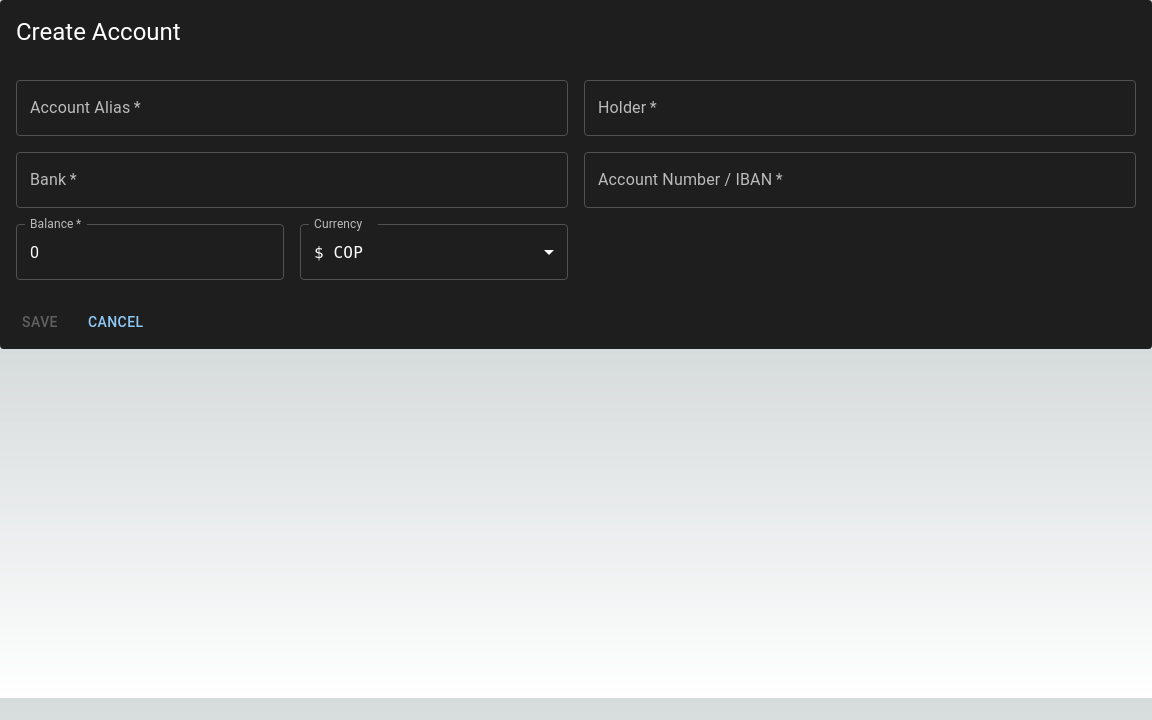
Test case: AccountForm API › disables save button while post request pending
The image size is (1152, 720).
Type "Test bank" into the field labelled "Bank *".
click(292, 180); type("Test bank")  # box [16, 152, 568, 208]
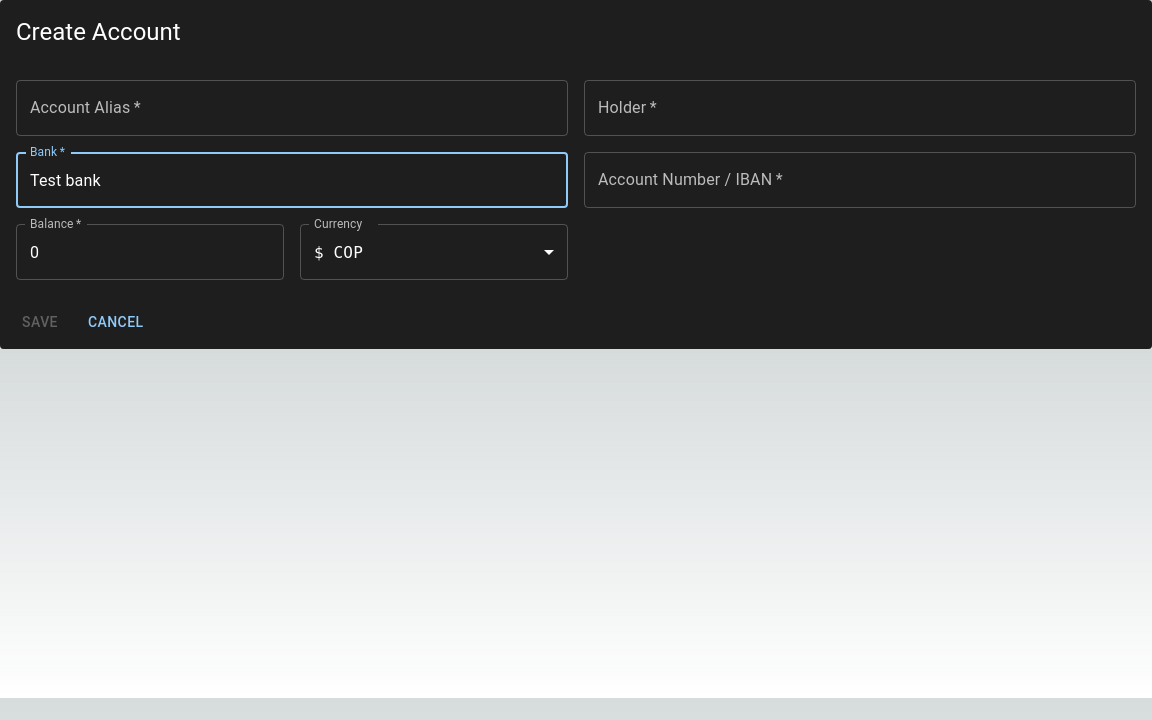
Type "My Self" into the field labelled "Holder *".
click(860, 108); type("My Self")  # box [584, 80, 1136, 136]
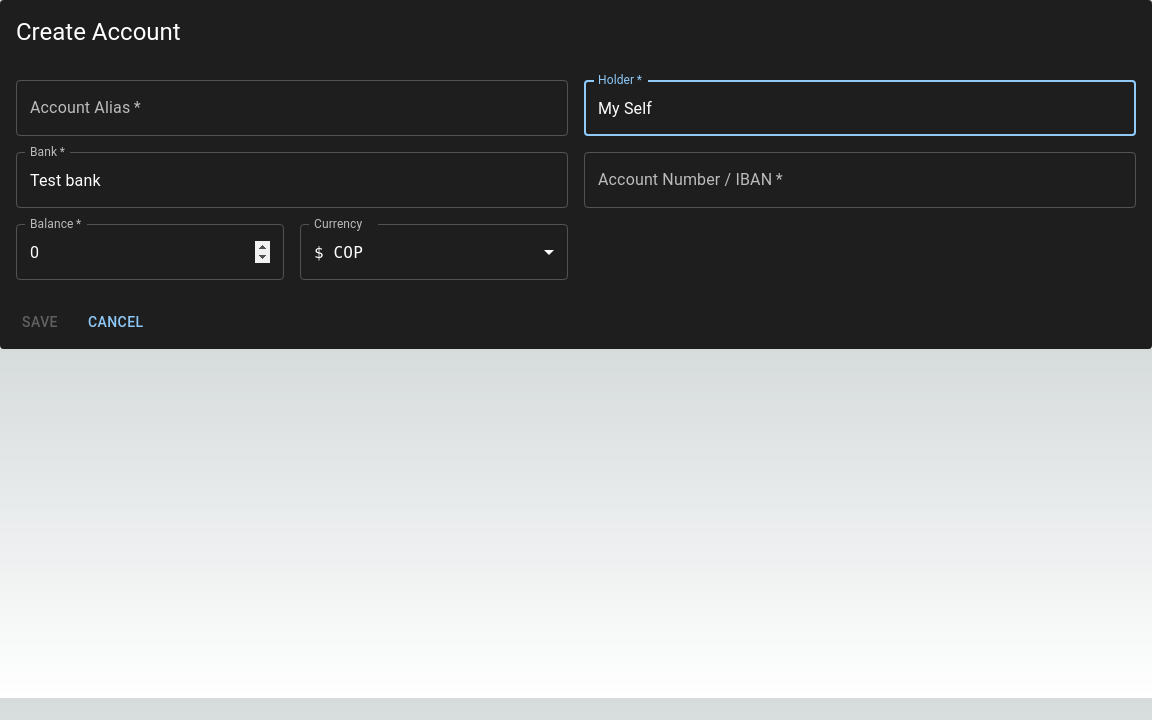
Replace the text in the number field labelled "Balance *" with "100000" at (150, 252), box [16, 224, 284, 280]
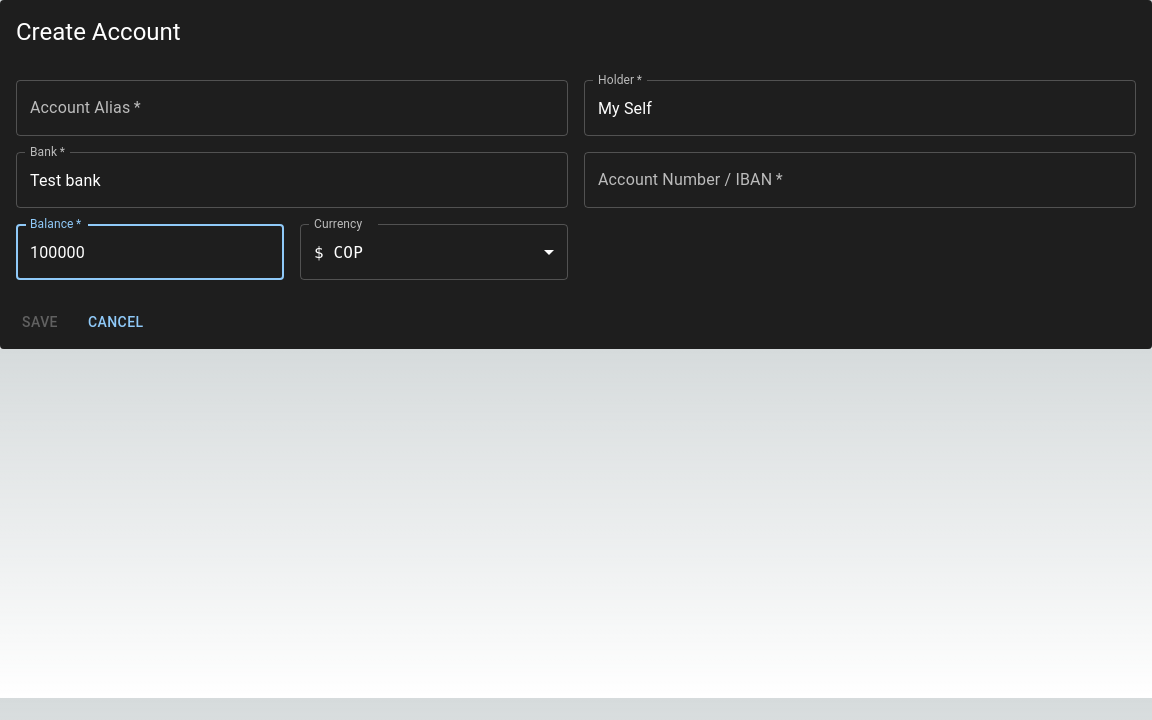
Type "1234567890" into the field labelled "Account Number / IBAN *".
click(860, 180); type("1234567890")  # box [584, 152, 1136, 208]
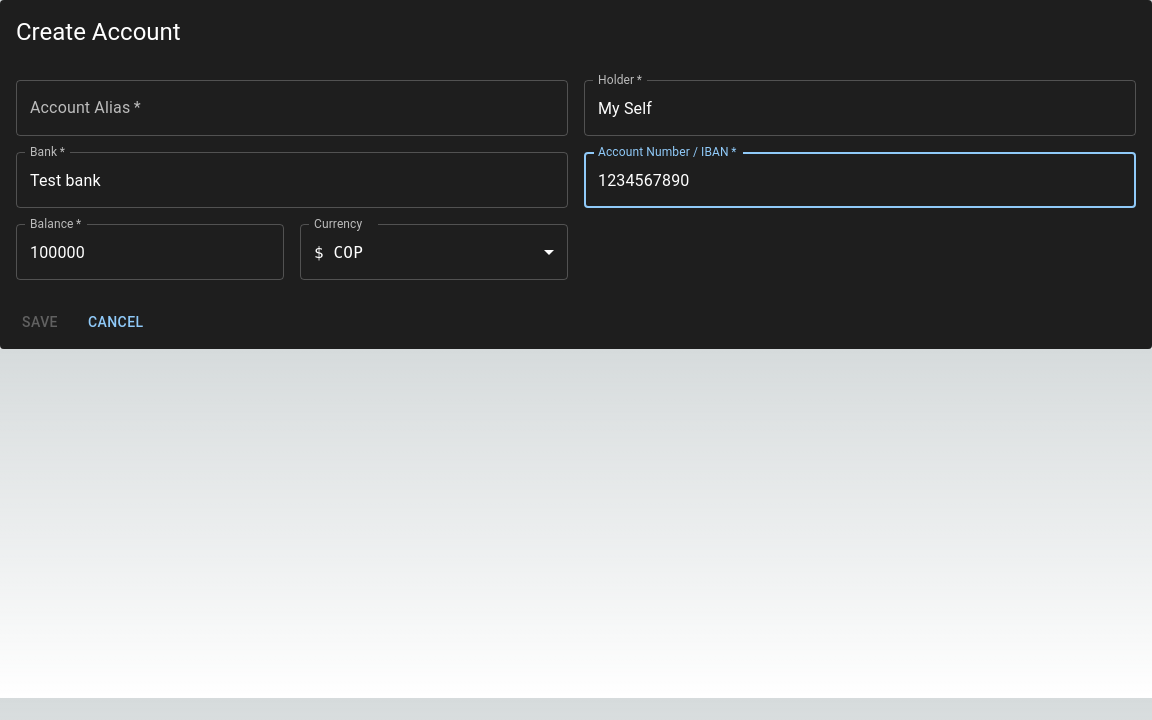
Type "Test Account" into the field labelled "Account Alias *".
click(292, 108); type("Test Account")  # box [16, 80, 568, 136]
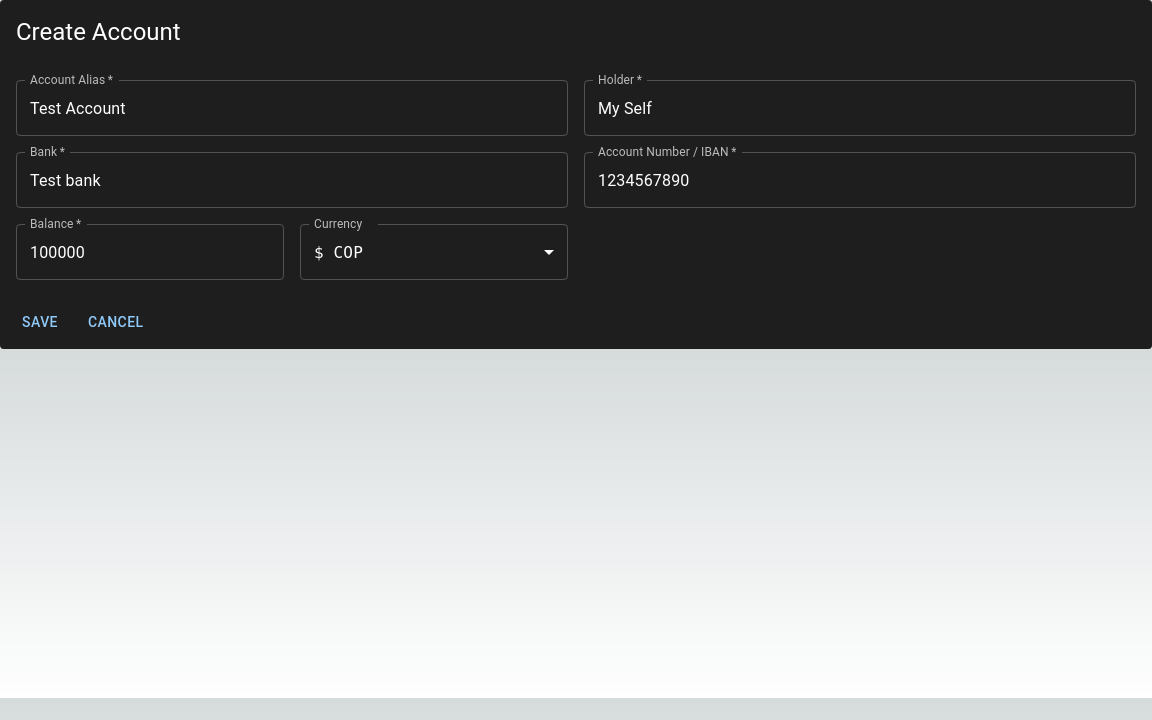
Expected: the button "Save" is enabled
Click the button "Save".
click(40, 322)  # box [8, 304, 72, 340]
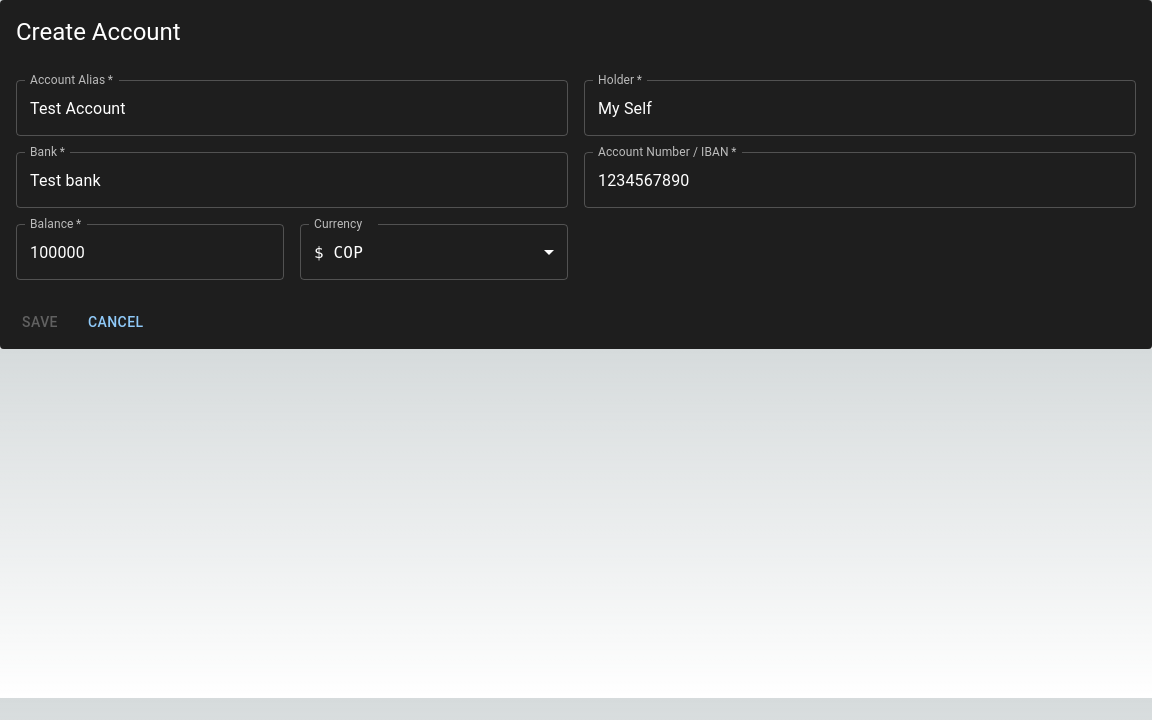
Expected: the button "Save" is disabled, [8, 304, 72, 340]
